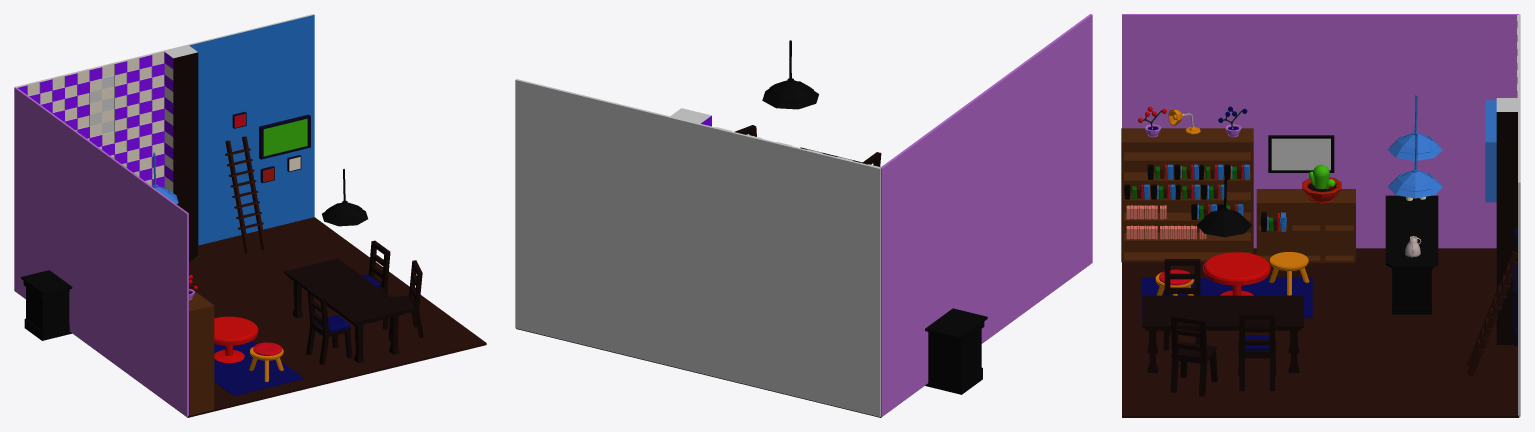
The picture shows the model from 3 angles, left to right: view 1: azimuth 30°, elevation 25°; view 2: azimuth 150°, elevation 25°; view 3: azimuth 270°, elevation 25°; orthographic projection. The views are drawn at different scales.
Parts seen in each view (by area): view 1: Cube.002, Cube.001, Cube, Langtisch, Regal, Cube.003, Filmposter, GrosserRahmen, Leiter, Rundtisch, Stuhl.002, Stuhl.001 (+3 smaller); view 2: Cube.002, Cube.001, Cube.003, Deckenlicht.002; view 3: Cube.001, Cube, Regal, KleinesRegal, Langtisch, Cube.002, Cube.003, GrosserRahmen.001, Stuhl.001, Filmposter, Rundtisch, Stuhl (+9 smaller).
Part boxes in pixels (x1,y1,x2,y2): Cube.002: (15,14,314,254); Cube.001: (14,87,188,416); Cube: (187,217,486,417); Langtisch: (284,258,408,363); Regal: (189,287,214,415); Cube.003: (21,248,196,340); Filmposter: (214,340,304,395); GrosserRahmen: (259,114,310,159); Leiter: (225,136,266,253); Rundtisch: (214,316,258,363); Stuhl.002: (306,288,352,364); Stuhl.001: (382,260,423,341); Cube.002: (515,79,880,416); Cube.001: (880,14,1092,416); Cube.003: (925,308,987,394); Deckenlicht.002: (762,40,818,109); Cube.001: (1122,14,1519,248); Cube: (1122,248,1519,417); Regal: (1121,128,1253,262); KleinesRegal: (1256,189,1355,262); Langtisch: (1142,295,1303,372); Cube.002: (1496,14,1520,416); Cube.003: (1385,195,1438,314); GrosserRahmen.001: (1268,135,1334,172); Stuhl.001: (1170,315,1217,396); Filmposter: (1141,277,1312,317); Rundtisch: (1203,252,1270,295); Stuhl: (1238,313,1276,390).
Size of the model in its own units: 6.59 by 3.96 by 6.03.
